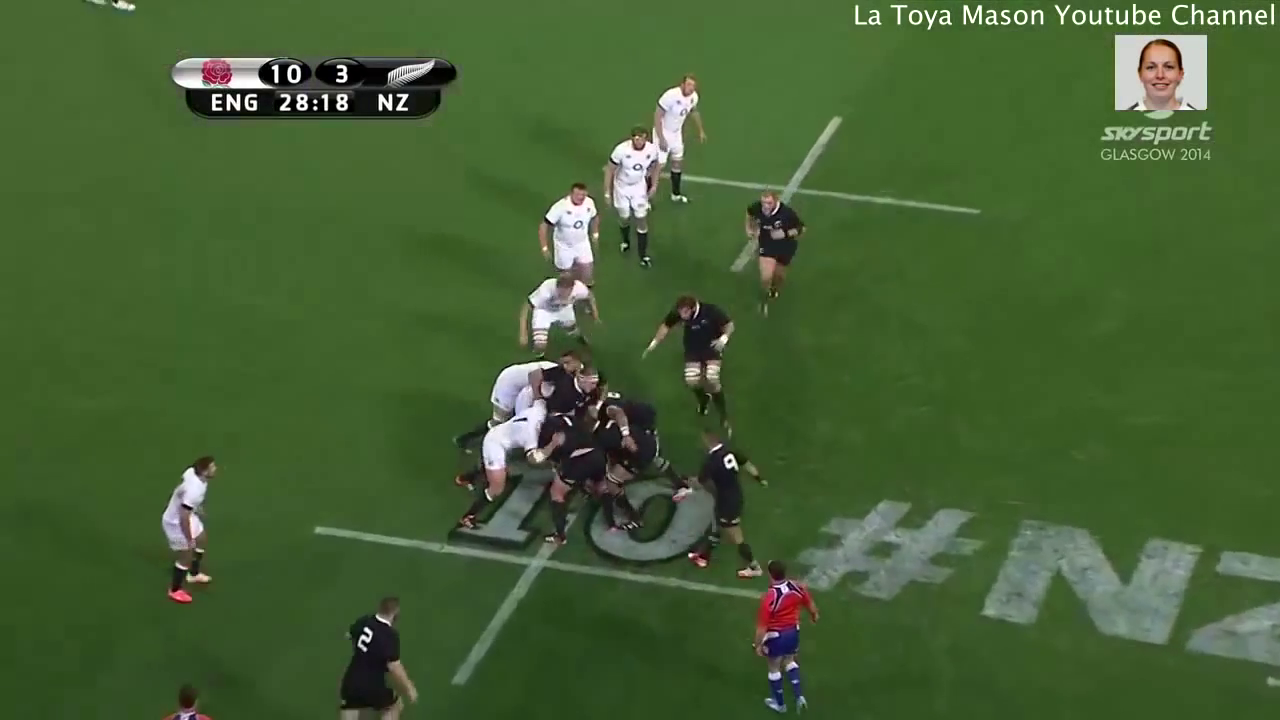10_metre: (312, 455, 784, 691), (596, 106, 988, 281)
maul: (446, 340, 677, 544)
player: (640, 291, 737, 433), (686, 424, 769, 585), (750, 552, 829, 720), (455, 398, 545, 542), (334, 589, 426, 720), (156, 453, 228, 611), (502, 268, 611, 368), (598, 120, 665, 279), (533, 180, 604, 314), (537, 432, 621, 539), (738, 180, 802, 319), (646, 74, 709, 203), (465, 350, 551, 440), (548, 368, 593, 411), (162, 685, 209, 720)
